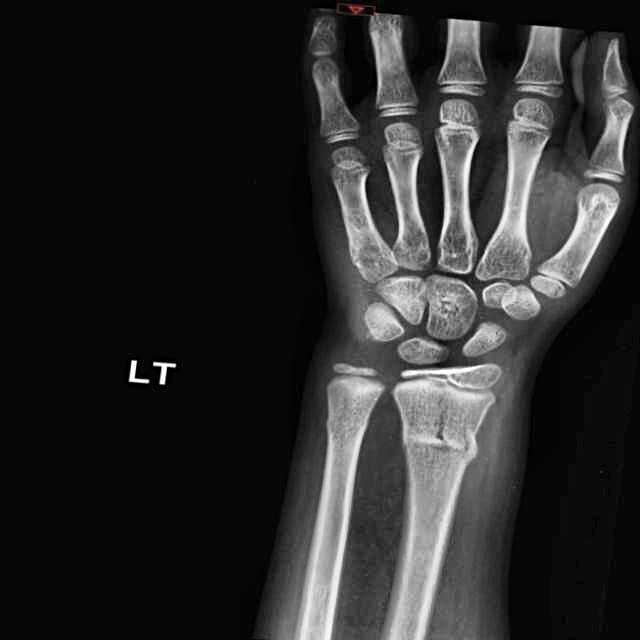Linear: (402, 392, 479, 486)
